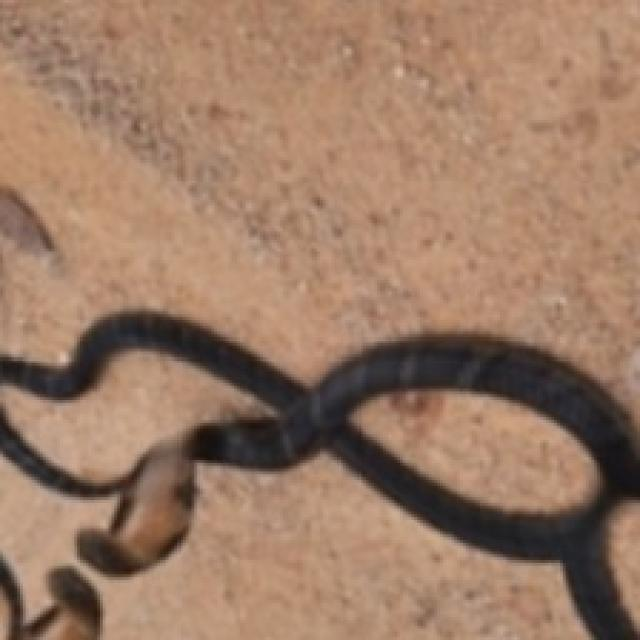king cobra: (0, 309, 637, 637), (346, 386, 600, 511)
